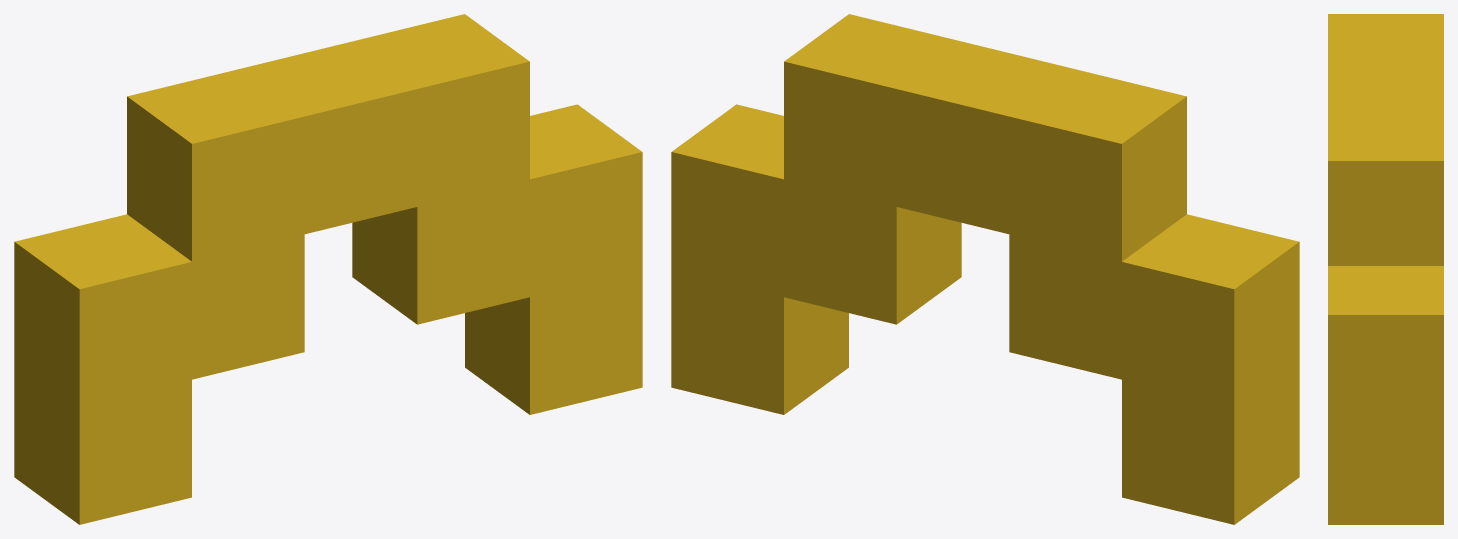
The model's file is uxvirtual-inner-t.obj.
3 views of the same model, side by side, from view 1: azimuth 30°, elevation 25°; view 2: azimuth 150°, elevation 25°; view 3: azimuth 270°, elevation 25° (orthographic). The views are drawn at different scales.
Size of the model in its own units: 5 by 3 by 1.
1 material, 1 textured.
